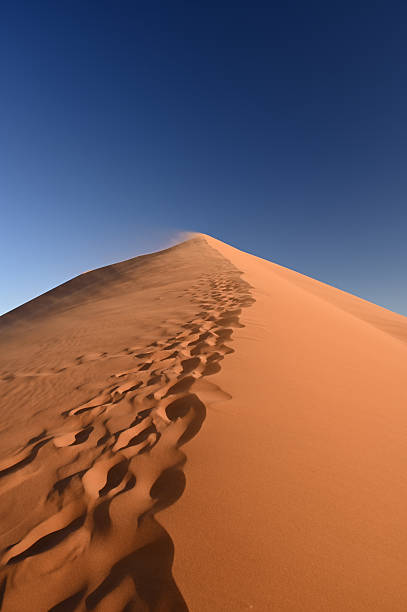human_footprint: (0, 266, 252, 610)
